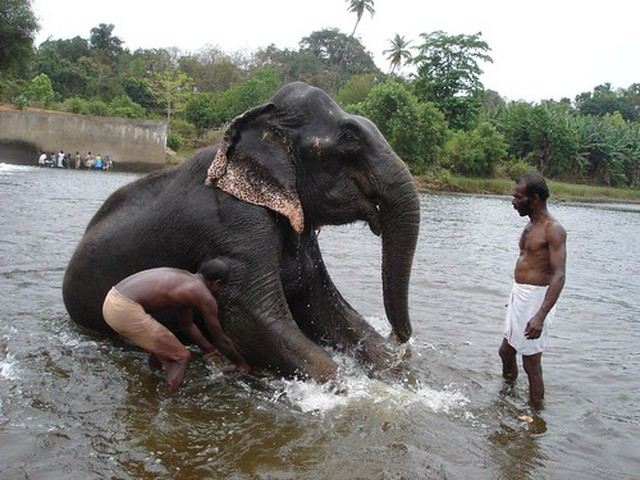Elephant: (60, 77, 421, 370)
Person: (102, 257, 248, 388), (497, 175, 567, 404), (35, 150, 118, 170)
